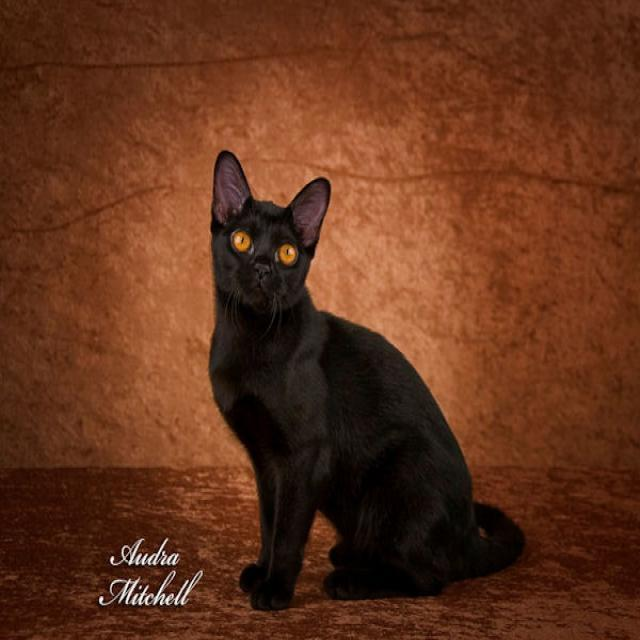Bombay: (207, 142, 335, 319)
